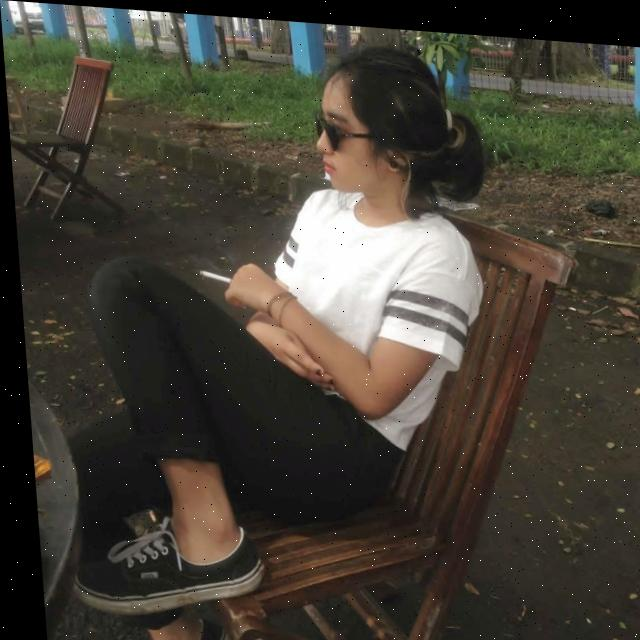cigarette: (194, 268, 228, 281)
